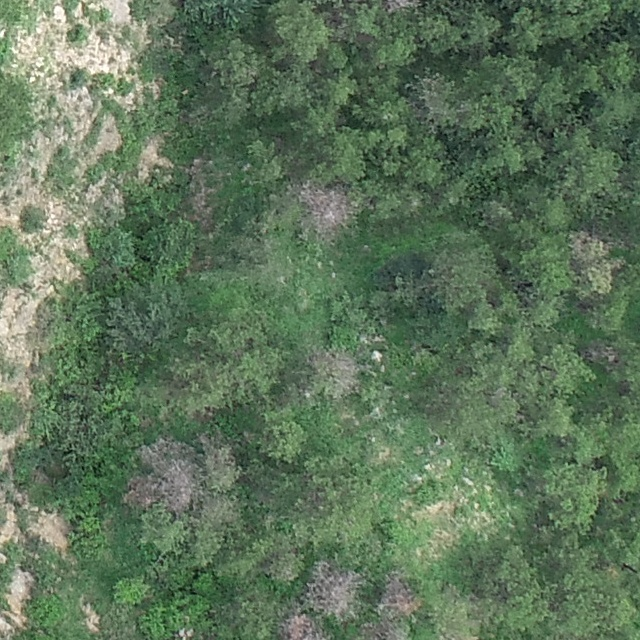unhealthy: (306, 561, 361, 619), (296, 180, 351, 236), (306, 347, 364, 397), (378, 573, 421, 618), (136, 435, 192, 469), (162, 469, 199, 511), (567, 230, 611, 262), (122, 474, 161, 509), (279, 611, 324, 640), (357, 619, 406, 640), (583, 341, 621, 367), (378, 0, 426, 12)
